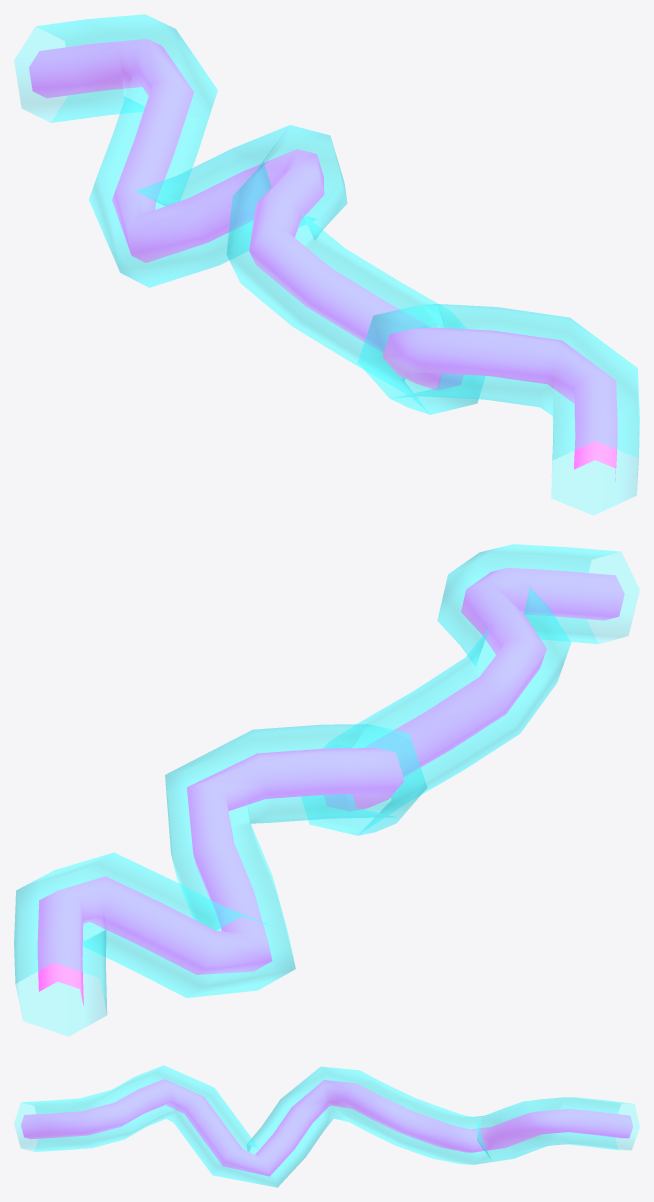
Rendered from proj_arc_beam.glb.
The picture shows the model from 3 angles, top to bottom: view 1: azimuth 30°, elevation 25°; view 2: azimuth 150°, elevation 25°; view 3: azimuth 270°, elevation 25°; orthographic projection. The views are drawn at different scales.
Visible parts, largest first — view 1: arc_beam_halo, arc_beam_core; view 2: arc_beam_halo, arc_beam_core; view 3: arc_beam_halo, arc_beam_core.
Part boxes in pixels (left/top/right/bottom): arc_beam_halo: left=14, top=14, right=639, bottom=515; arc_beam_core: left=29, top=39, right=617, bottom=480; arc_beam_halo: left=14, top=544, right=639, bottom=1036; arc_beam_core: left=37, top=568, right=624, bottom=1005; arc_beam_halo: left=14, top=1065, right=639, bottom=1187; arc_beam_core: left=21, top=1079, right=632, bottom=1176.
Size of the model in its own units: 0.1953 by 0.1833 by 1.04.
